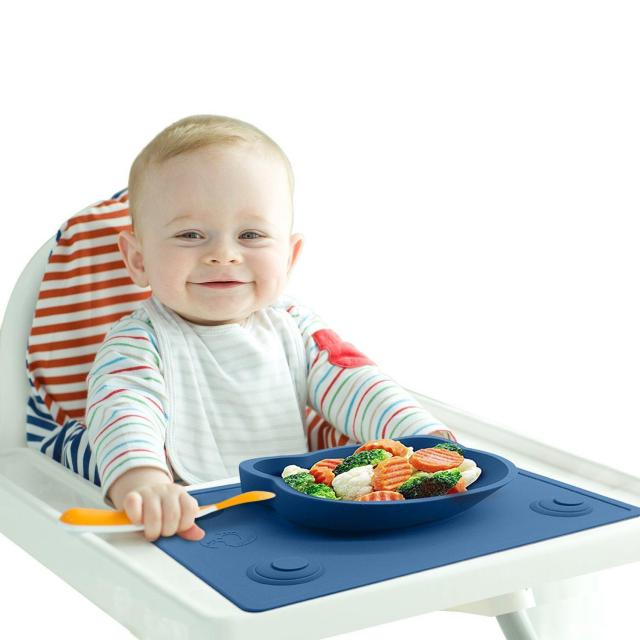child: (72, 99, 471, 542)
